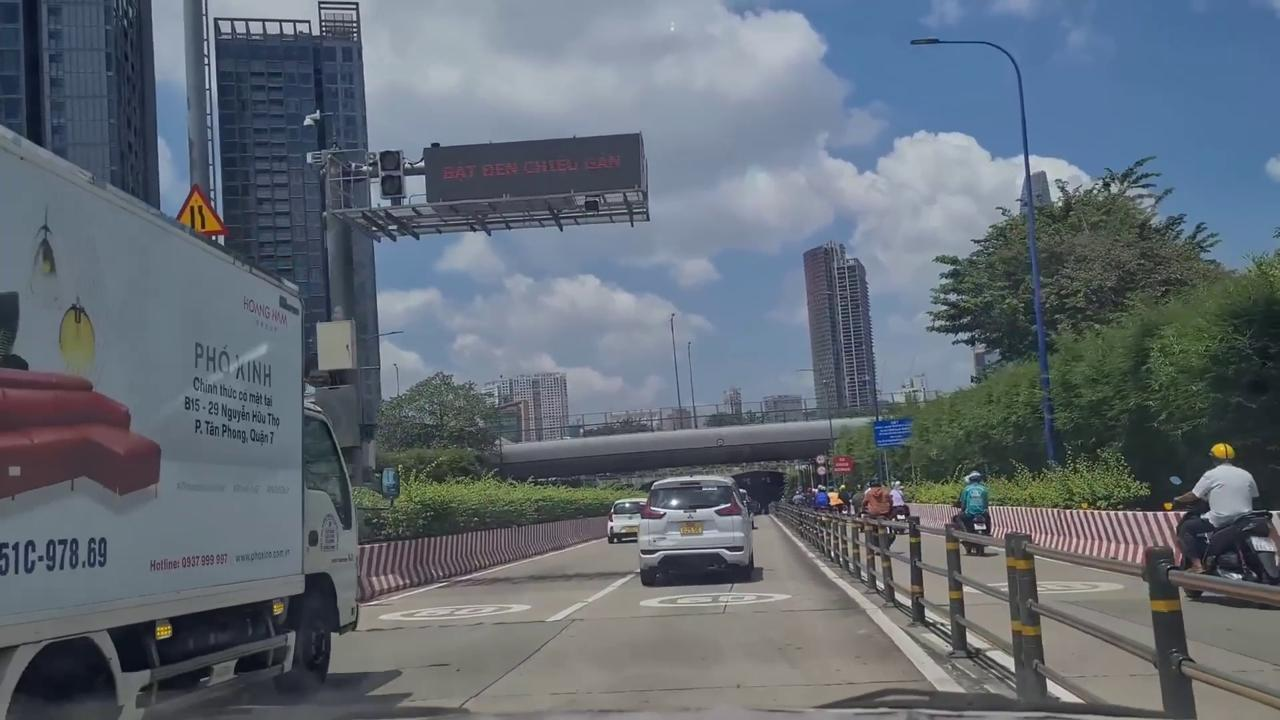Đuờng hẹp: (168, 184, 228, 238)
